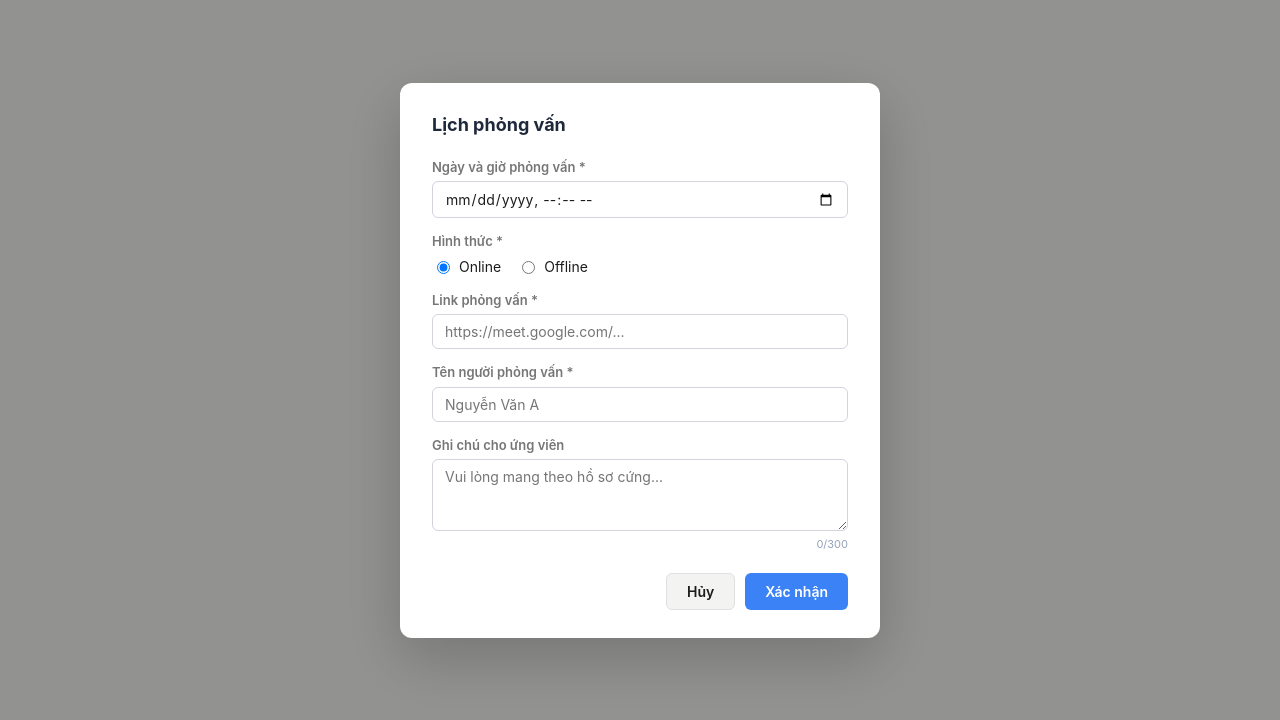
ScheduleModal — format label changes › should show "Địa điểm" label text when format is Offline
Click the radio button showing "offline" at (529, 268), box [522,261,535,274]
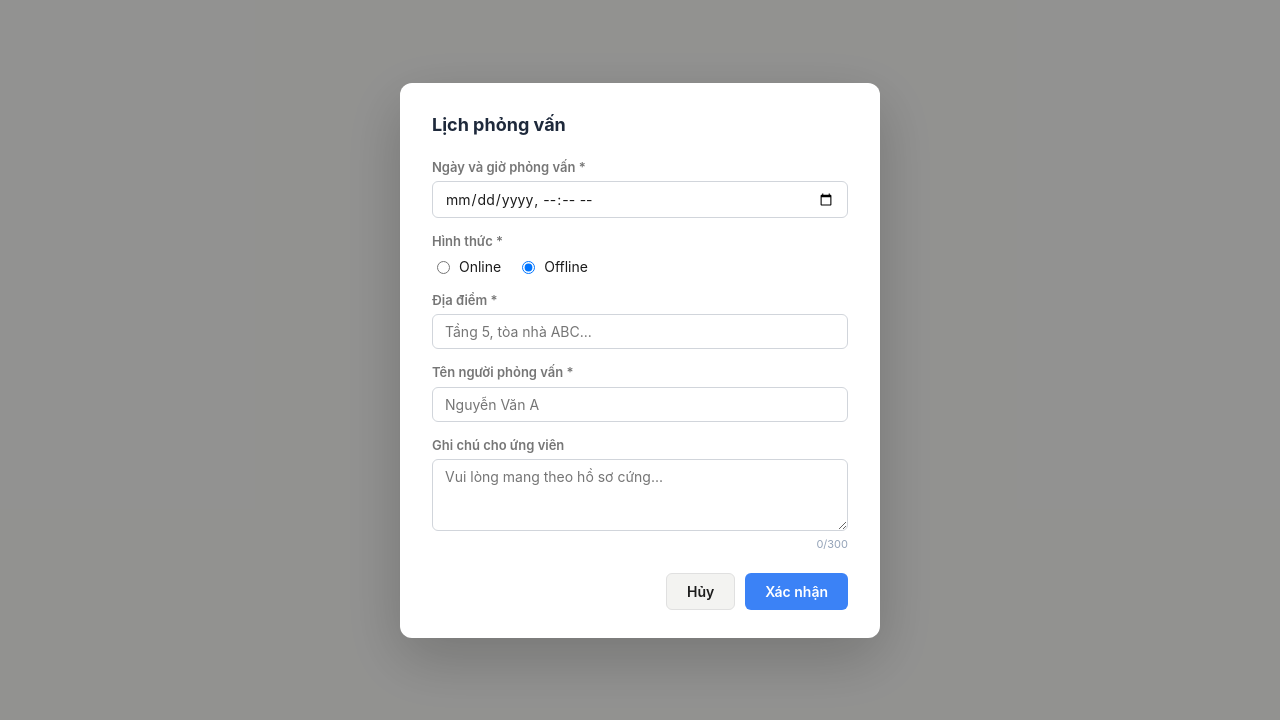
expect the text "Địa điểm *" is shown: met, box [432,292,498,308]
